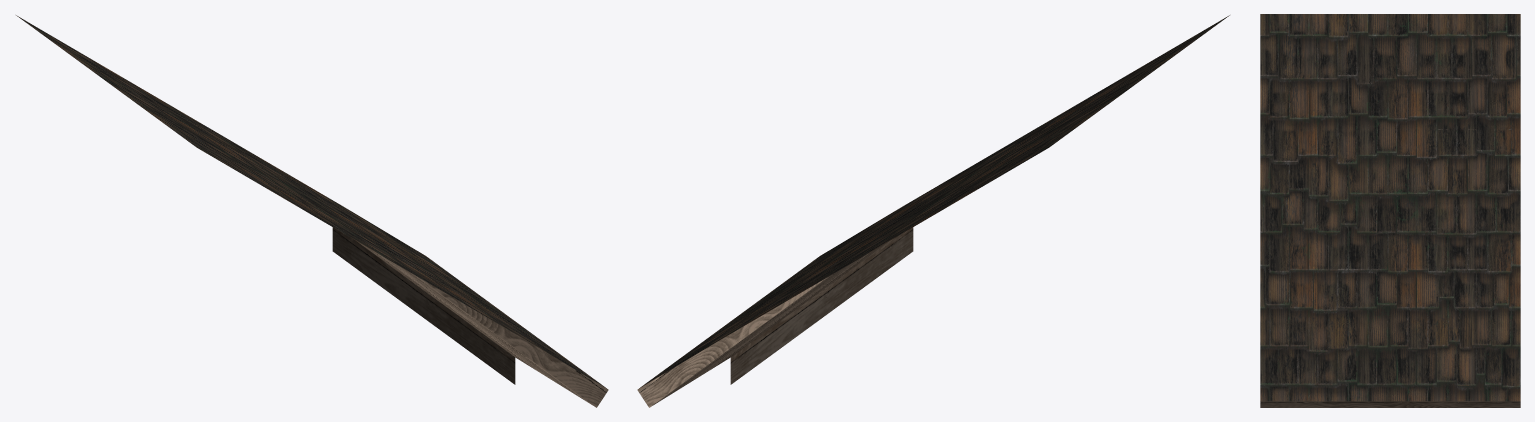
Rendered from SM_Roof.fbx.
The picture shows the model from 3 angles, left to right: view 1: azimuth 30°, elevation 25°; view 2: azimuth 150°, elevation 25°; view 3: azimuth 270°, elevation 25°; orthographic projection. The views are drawn at different scales.
Visible parts, largest first — view 1: SM_Roof; view 2: SM_Roof; view 3: SM_Roof.
Part boxes in pixels (x1,y1,x2,y2): SM_Roof: (16,15,608,407); SM_Roof: (637,15,1229,407); SM_Roof: (1260,14,1520,407).
Size of the model in its own units: 390 by 324 by 300.
